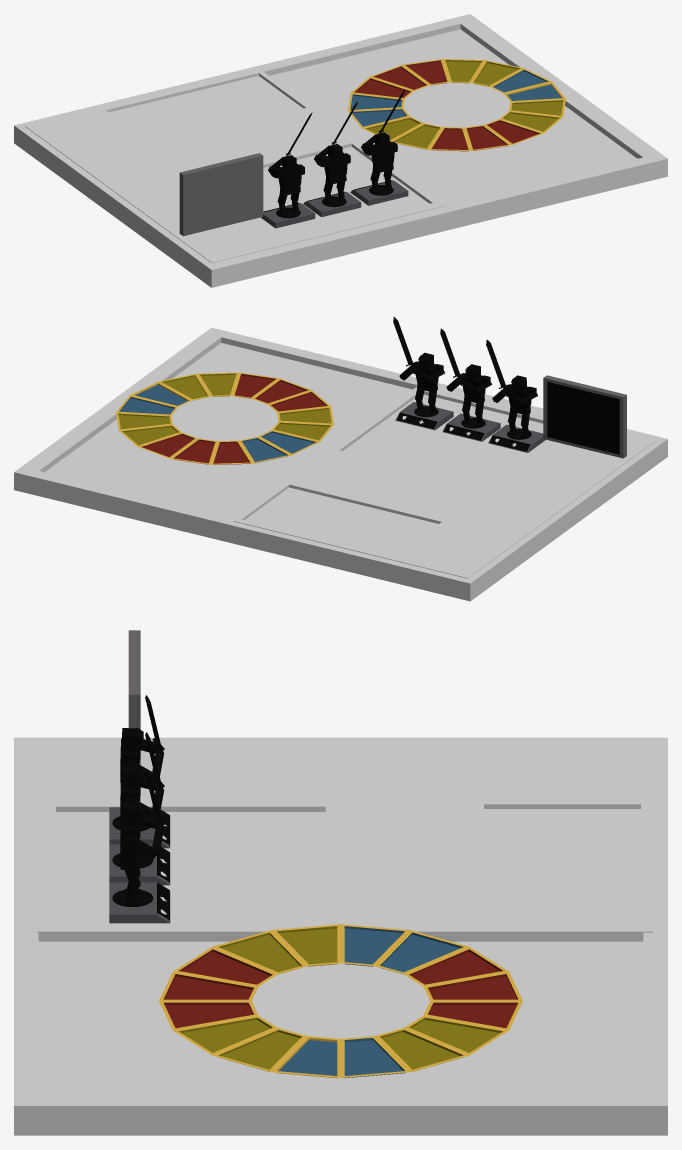
File: GameFielddd.fbx
3 views of the same model, one above another, from view 1: azimuth 30°, elevation 25°; view 2: azimuth 150°, elevation 25°; view 3: azimuth 270°, elevation 25° (orthographic). The views are drawn at different scales.
Visible parts, largest first — view 1: Platofrm, Cube, Display, Attack1, Attack2, Cube.001, Cube.002, Cube.003, Money3, Sheilds1, Money1, Shileds2 (+1 smaller); view 2: Platofrm, Cube, Display, Cube.001, Cube.002, Cube.003, Attack2, Attack1, Money1, Shileds2, Sheilds1, Money2 (+1 smaller); view 3: Cube, Platofrm, Attack1, Attack2, Cube.001, Sheilds1, Money2, Shileds2, Money1, Money3, Cube.002, Cube.003 (+1 smaller).
Part boxes in pixels (left/top/right/bottom): Platofrm: left=14, top=14, right=667, bottom=287; Cube: left=25, top=69, right=446, bottom=262; Display: left=179, top=153, right=263, bottom=236; Attack1: left=428, top=119, right=543, bottom=151; Attack2: left=351, top=59, right=449, bottom=98; Cube.001: left=350, top=89, right=408, bottom=205; Cube.002: left=303, top=101, right=361, bottom=217; Cube.003: left=261, top=112, right=315, bottom=228; Money3: left=442, top=59, right=523, bottom=86; Sheilds1: left=490, top=68, right=565, bottom=101; Money1: left=500, top=99, right=565, bottom=133; Shileds2: left=348, top=93, right=409, bottom=127; Platofrm: left=14, top=327, right=667, bottom=601; Cube: left=233, top=386, right=653, bottom=578; Display: left=543, top=375, right=626, bottom=458; Cube.001: left=393, top=317, right=453, bottom=430; Cube.002: left=440, top=328, right=500, bottom=441; Cube.003: left=486, top=339, right=545, bottom=452; Attack2: left=138, top=432, right=253, bottom=464; Attack1: left=232, top=372, right=330, bottom=412; Money1: left=158, top=372, right=239, bottom=400; Shileds2: left=239, top=430, right=319, bottom=463; Sheilds1: left=116, top=382, right=191, bottom=415; Money2: left=272, top=406, right=333, bottom=441; Cube: left=36, top=742, right=653, bottom=941; Platofrm: left=14, top=737, right=667, bottom=1135; Attack1: left=159, top=947, right=277, bottom=1030; Attack2: left=404, top=947, right=522, bottom=1030; Cube.001: left=109, top=770, right=170, bottom=923; Sheilds1: left=271, top=1036, right=410, bottom=1078; Money2: left=212, top=924, right=340, bottom=974; Shileds2: left=341, top=924, right=469, bottom=974; Money1: left=173, top=1015, right=306, bottom=1071; Money3: left=375, top=1015, right=508, bottom=1071; Cube.002: left=109, top=732, right=170, bottom=885; Cube.003: left=109, top=695, right=170, bottom=848.
Size of the model in its own units: 28.73 by 6.81 by 21.55.
